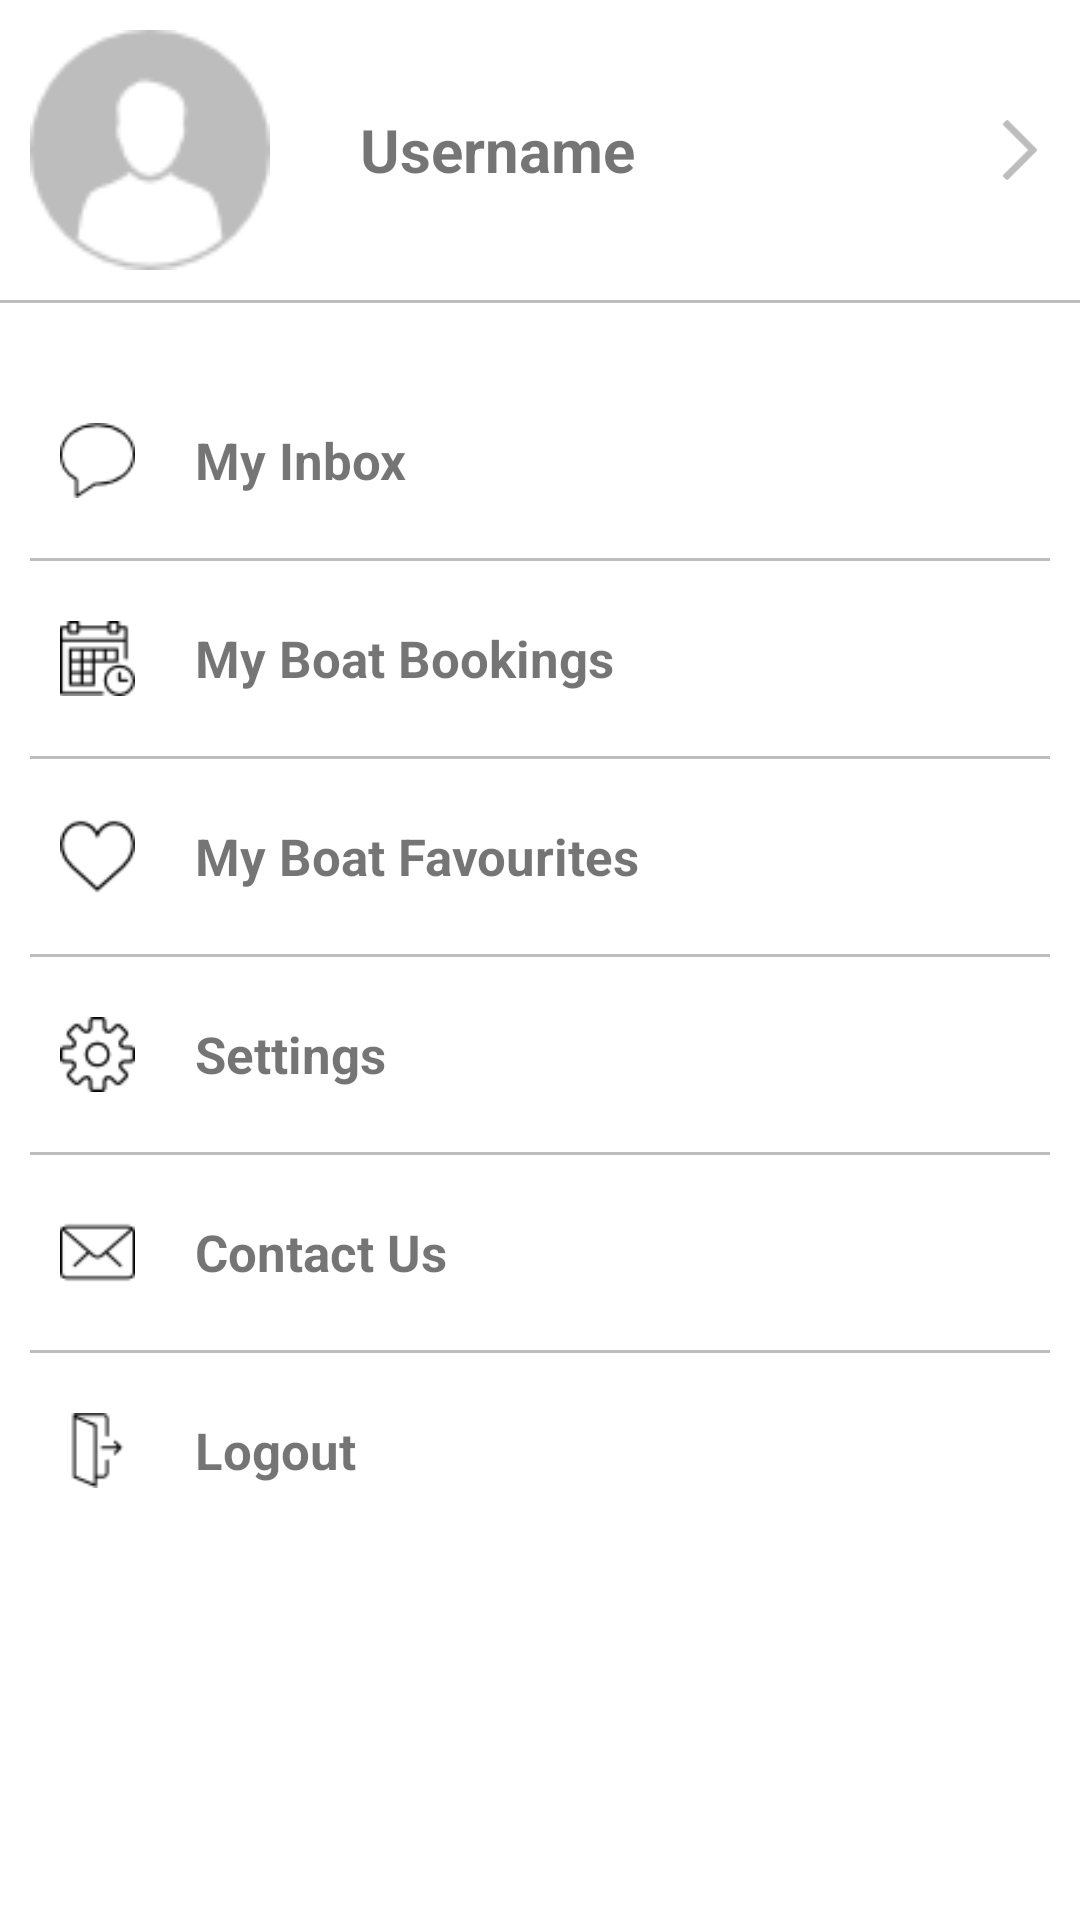

Icons on this 1080w x 1920h Android screen, each with the point to tap as (x=x, y=y):
blackheart: (x=97, y=856)
forward: (x=1020, y=150)
mail: (x=97, y=1252)
